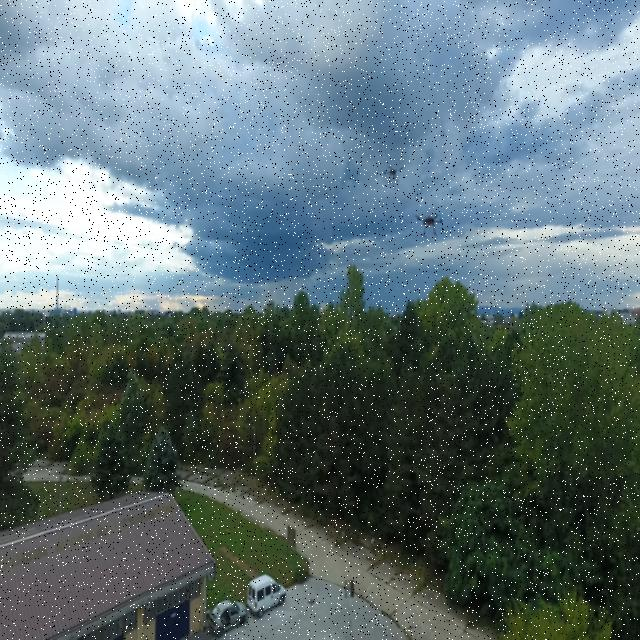UAV: (412, 208, 449, 238), (378, 156, 408, 192)
